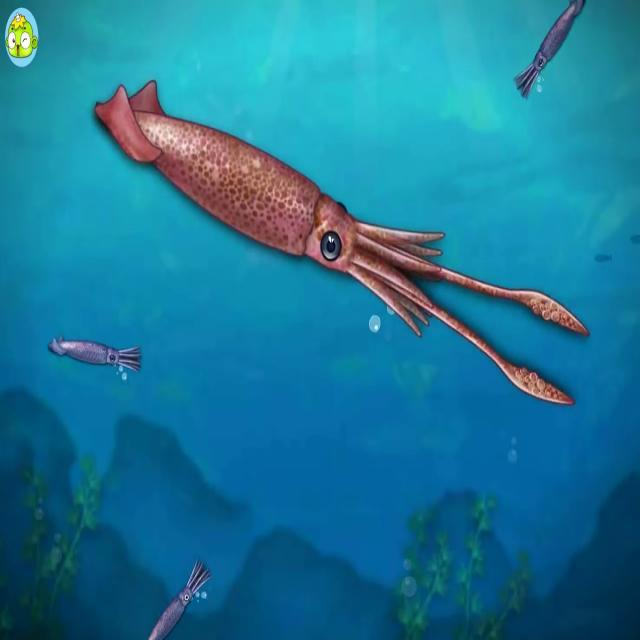squid: (93, 79, 446, 338), (514, 0, 587, 100), (147, 555, 210, 640), (49, 330, 144, 374)
